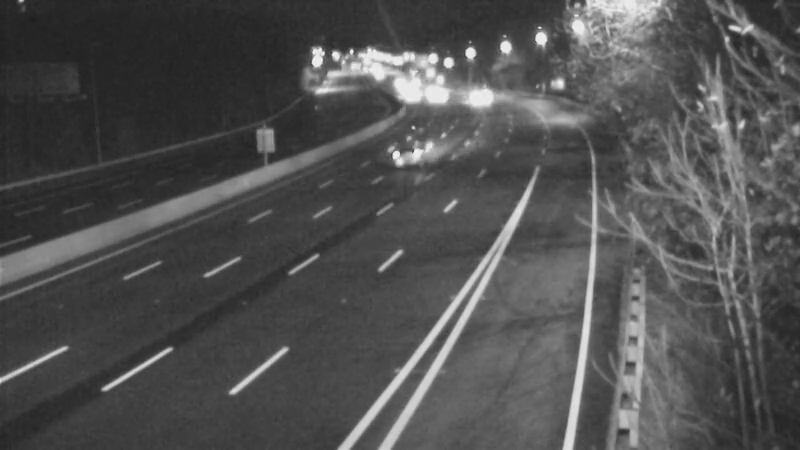vehicle: (370, 113, 450, 193), (449, 77, 499, 127), (408, 72, 458, 122)
